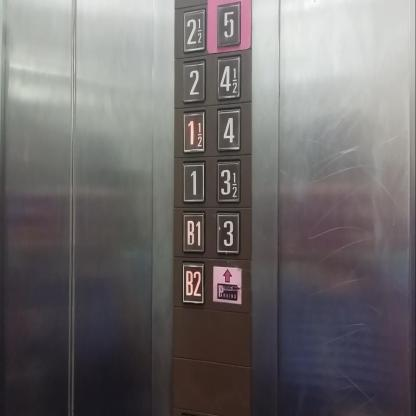1: (182, 159, 206, 202)
2: (181, 58, 206, 103)
3: (215, 211, 239, 253)
4: (217, 109, 241, 152)
5: (216, 0, 242, 49)
B1: (182, 211, 204, 251)
B2: (182, 260, 205, 305)
unknown: (181, 6, 206, 56), (216, 52, 241, 102), (181, 106, 206, 155)
